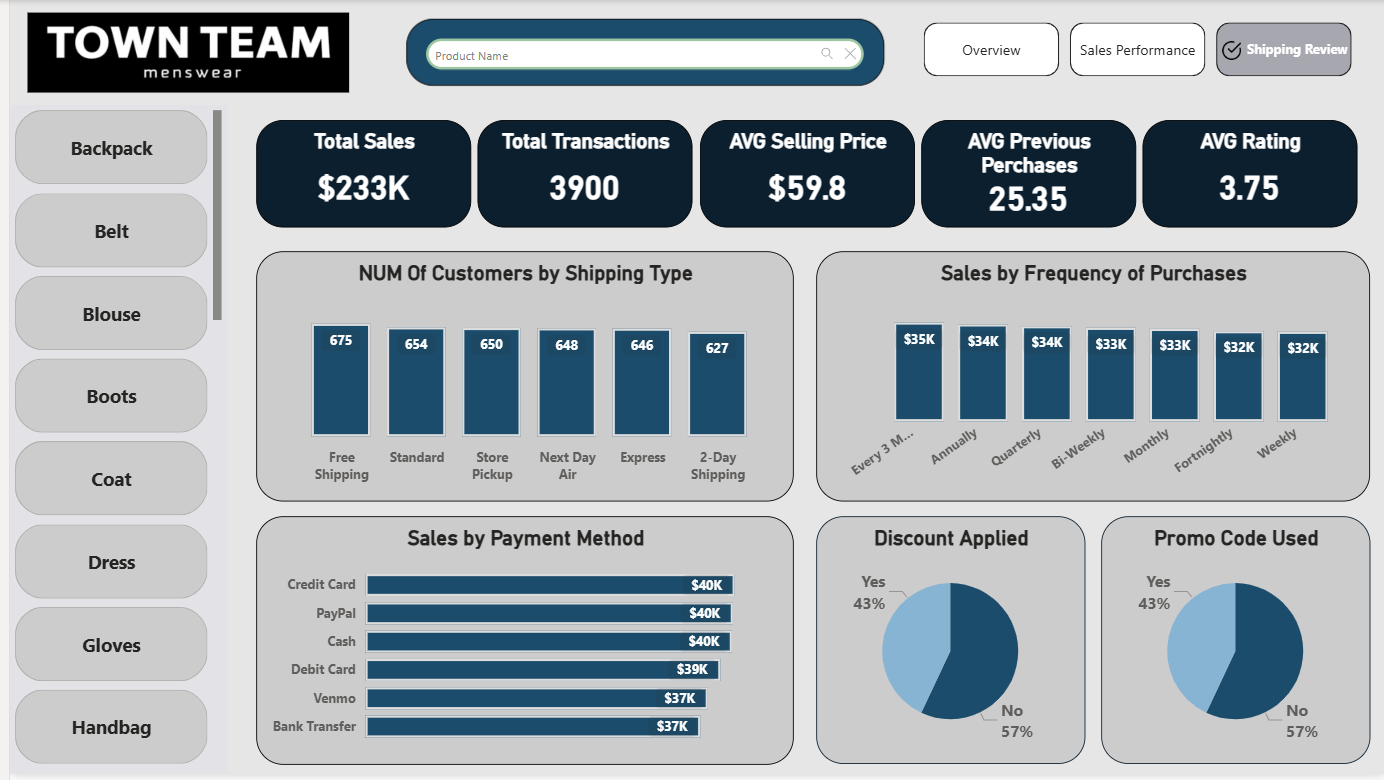

This screenshot's page, from the dashboard's own definition file:
{"tool":"powerbi","page":{"name":"Shipping Review","canvas":[1280,720],"ordinal":2},"visuals":[{"type":"shape","box":[0,0,1280.2,97.7],"z":0},{"type":"advancedSlicerVisual","fields":{"Values":["shopping_behavior_updated (1).Item Purchased"]},"box":[0,97.7,202.3,622.1],"z":1000},{"type":"pageNavigator","box":[850,20.9,400,50],"z":2000},{"type":"columnChart","title":"NUM Of Customers by Shipping Type","fields":{"Y":["shopping_behavior_updated (1).# Customers"],"Category":["shopping_behavior_updated (1).Shipping Type"]},"box":[229.1,233.7,500,232.6],"z":3000},{"type":"columnChart","title":"Sales by Frequency of Purchases","fields":{"Category":["shopping_behavior_updated (1).Frequency of Purchases"],"Y":["shopping_behavior_updated (1).# Total Sales"]},"box":[750,233.7,515.1,232.6],"z":4000},{"type":"clusteredBarChart","title":"Sales by Payment Method","fields":{"Category":["shopping_behavior_updated (1).Payment Method"],"Y":["shopping_behavior_updated (1).# Total Sales"]},"box":[229.1,480.2,500,231.4],"z":5000},{"type":"pieChart","title":"Promo Code Used","fields":{"Y":["shopping_behavior_updated (1).# Customers"],"Category":["shopping_behavior_updated (1).Promo Code Used"]},"box":[1015.1,480.2,250,230.2],"z":6000},{"type":"pieChart","title":"Discount Applied","fields":{"Y":["shopping_behavior_updated (1).# Customers"],"Category":["shopping_behavior_updated (1).Discount Applied"],"Series":["shopping_behavior_updated (1).Discount Applied"]},"box":[750,480.2,250,230.2],"z":7000},{"type":"card","title":"Total Sales","fields":{"Values":["shopping_behavior_updated (1).# Total Sales"]},"box":[229.3,111.4,200,100],"z":8000},{"type":"card","title":"Total Transactions ","fields":{"Values":["shopping_behavior_updated (1).# Customers"]},"box":[435.4,111.6,200,100],"z":9000},{"type":"card","title":"AVG Rating","fields":{"Values":["shopping_behavior_updated (1).# AVG Rating"]},"box":[1053.7,111.4,200,100],"z":10000},{"type":"card","title":"AVG Previous Perchases","fields":{"Values":["shopping_behavior_updated (1).# AVG Previous Perchases"]},"box":[847.6,111.4,200,100],"z":11000},{"type":"image","box":[1125.6,31.3,21.2,31.3],"z":12000},{"type":"textSearchSlicerF85E2E78BE4A4D7D9F99ED75B5D71C85","fields":{"fields":["shopping_behavior_updated (1).Item Purchased"]},"box":[368.5,17.9,444.4,62.5],"z":13000},{"type":"image","box":[16.7,8.9,299.3,79.3],"z":14000},{"type":"card","title":"AVG Selling Price","fields":{"Values":["shopping_behavior_updated (1).# AVG Selling Price"]},"box":[641.5,111.4,200,100],"z":15000}]}

Visuals, with their boxes in screenshot pixels (x1, y1, x2, y2), scaled from the page's 1280x720 canvas onto the 1384x780 screenshot:
shape: crop(0, 0, 1383, 106)
advancedSlicerVisual - shopping_behavior_updated (1).Item Purchased: crop(0, 106, 219, 779)
pageNavigator: crop(919, 23, 1352, 77)
"NUM Of Customers by Shipping Type" columnChart: crop(248, 253, 788, 505)
"Sales by Frequency of Purchases" columnChart: crop(811, 253, 1368, 505)
"Sales by Payment Method" clusteredBarChart: crop(248, 520, 788, 771)
"Promo Code Used" pieChart: crop(1098, 520, 1368, 770)
"Discount Applied" pieChart: crop(811, 520, 1081, 770)
"Total Sales" card: crop(248, 121, 464, 229)
"Total Transactions " card: crop(471, 121, 687, 229)
"AVG Rating" card: crop(1139, 121, 1356, 229)
"AVG Previous Perchases" card: crop(916, 121, 1133, 229)
image: crop(1217, 34, 1240, 68)
textSearchSlicerF85E2E78BE4A4D7D9F99ED75B5D71C85 - shopping_behavior_updated (1).Item Purchased: crop(398, 19, 879, 87)
image: crop(18, 10, 342, 96)
"AVG Selling Price" card: crop(694, 121, 910, 229)
